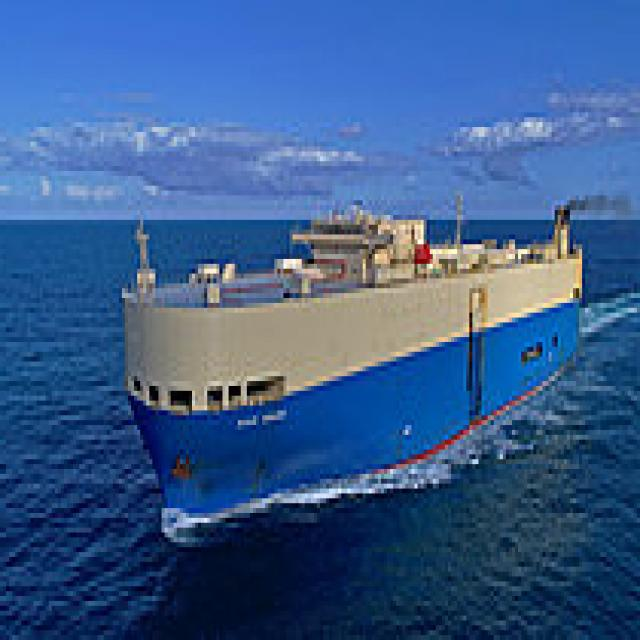Carrier: (122, 181, 591, 537)
